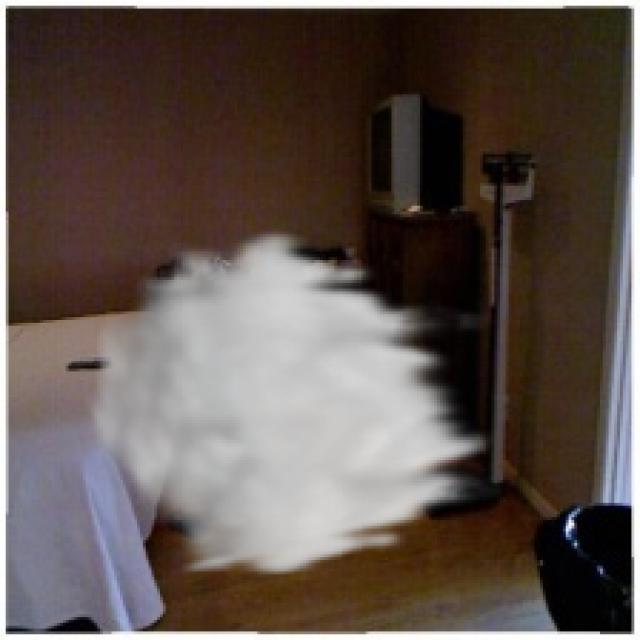Smoke: (80, 225, 506, 580)
